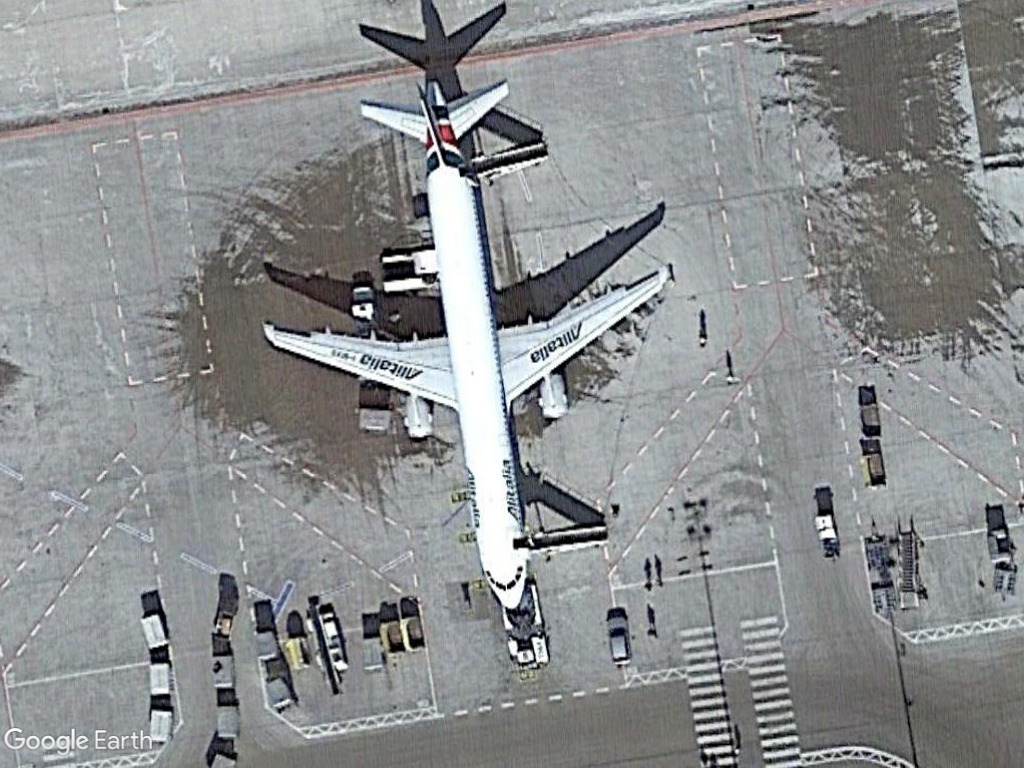airliner: (251, 80, 685, 611)
car: (602, 613, 636, 667)
stairtruck: (525, 522, 619, 561)
